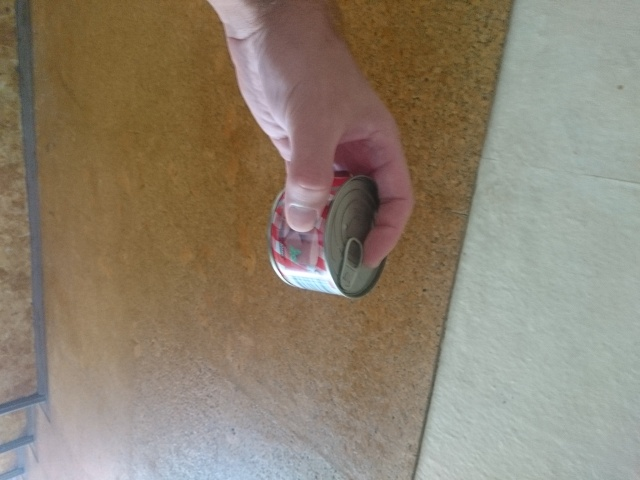Podravka Luncheon Meat 150g: (263, 171, 394, 302)
